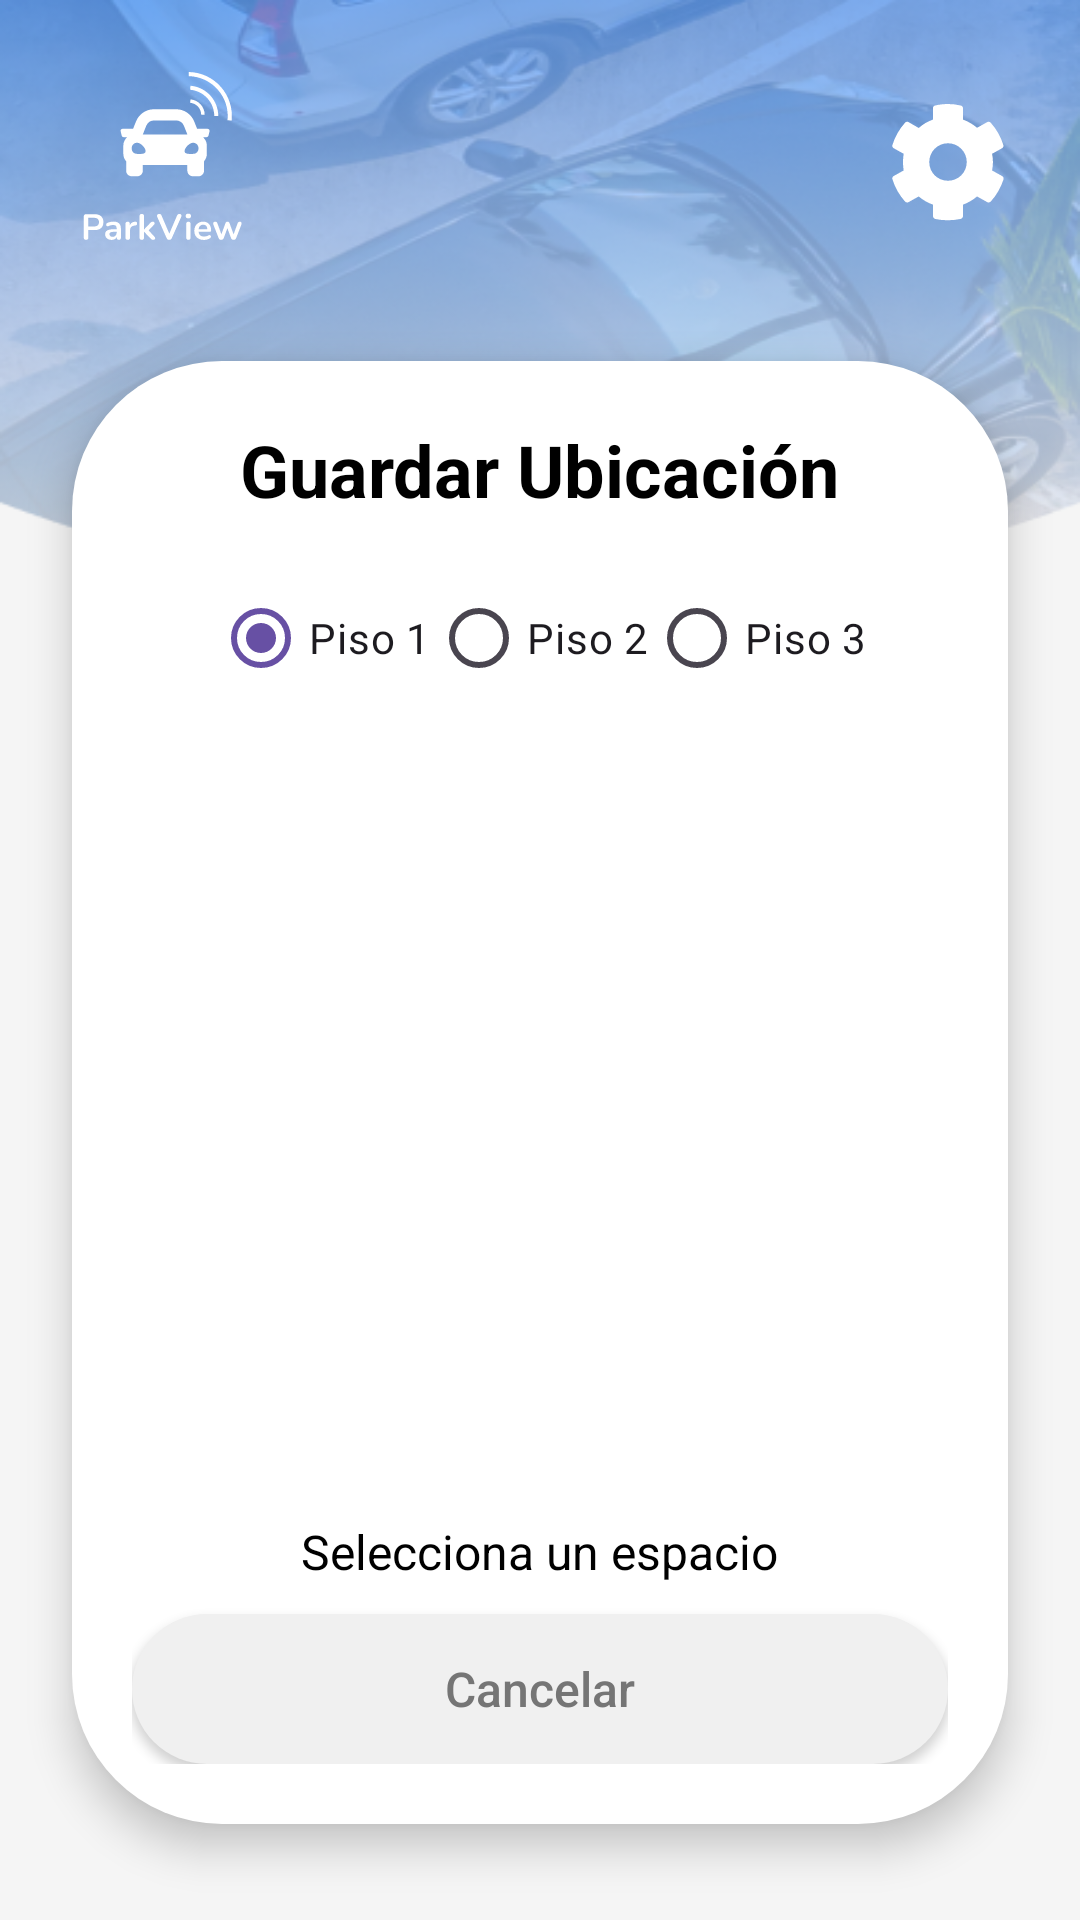

Icon click points for this 1080w x 1920h phone screenshot, format (x,y):
settings: (946,162)
